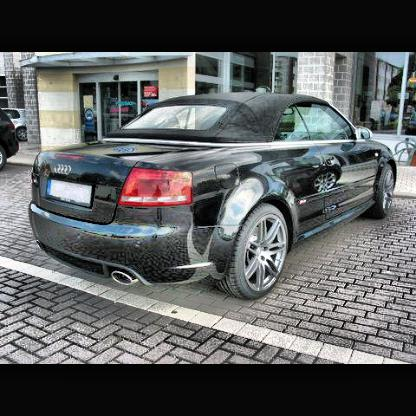Audi RS 4 Convertible 2008: (29, 95, 397, 303)
